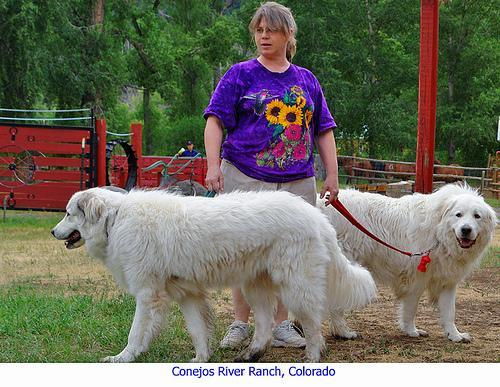Great_Pyrenees: (47, 182, 380, 361), (313, 168, 494, 348)
